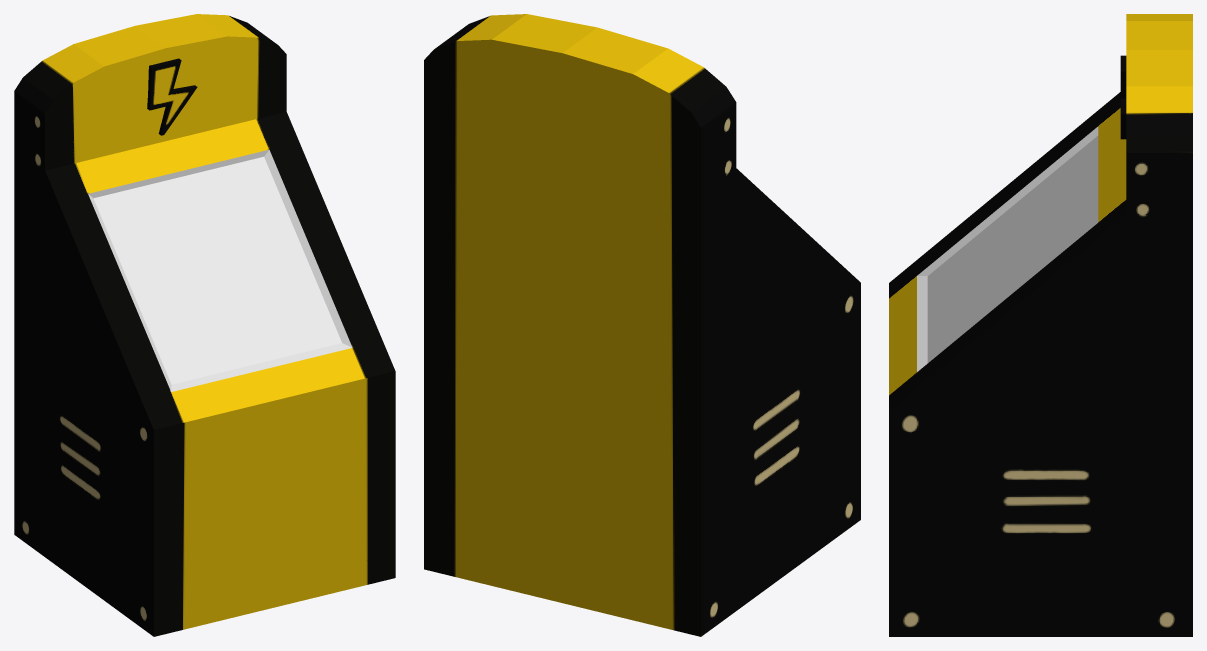
File: Energy.fbx
3 renders of one model, left to right at view 1: azimuth 30°, elevation 25°; view 2: azimuth 150°, elevation 25°; view 3: azimuth 270°, elevation 25°, orthographic. The views are drawn at different scales.
Visible parts, largest first — view 1: EnergyMachine_Body, EnergyMachine_Sceen, icon_flash; view 2: EnergyMachine_Body; view 3: EnergyMachine_Body, EnergyMachine_Sceen, icon_flash.
Boxes of the visible parts, x1,y1,x2,y2 form: EnergyMachine_Body: [14, 14, 395, 636]; EnergyMachine_Sceen: [88, 149, 352, 391]; icon_flash: [147, 58, 197, 135]; EnergyMachine_Body: [424, 14, 860, 636]; EnergyMachine_Body: [889, 14, 1192, 636]; EnergyMachine_Sceen: [917, 126, 1098, 371]; icon_flash: [1120, 55, 1126, 139].
Size of the model in its own units: 100 by 190 by 100.
